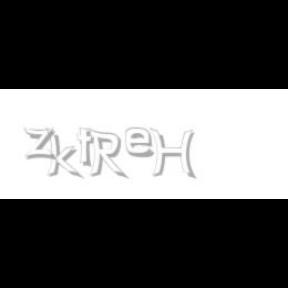H: (150, 128, 196, 180)
R: (87, 128, 125, 180)
e: (126, 128, 158, 158)
k: (45, 128, 83, 180)
t: (77, 128, 99, 168)
z: (23, 128, 59, 160)
